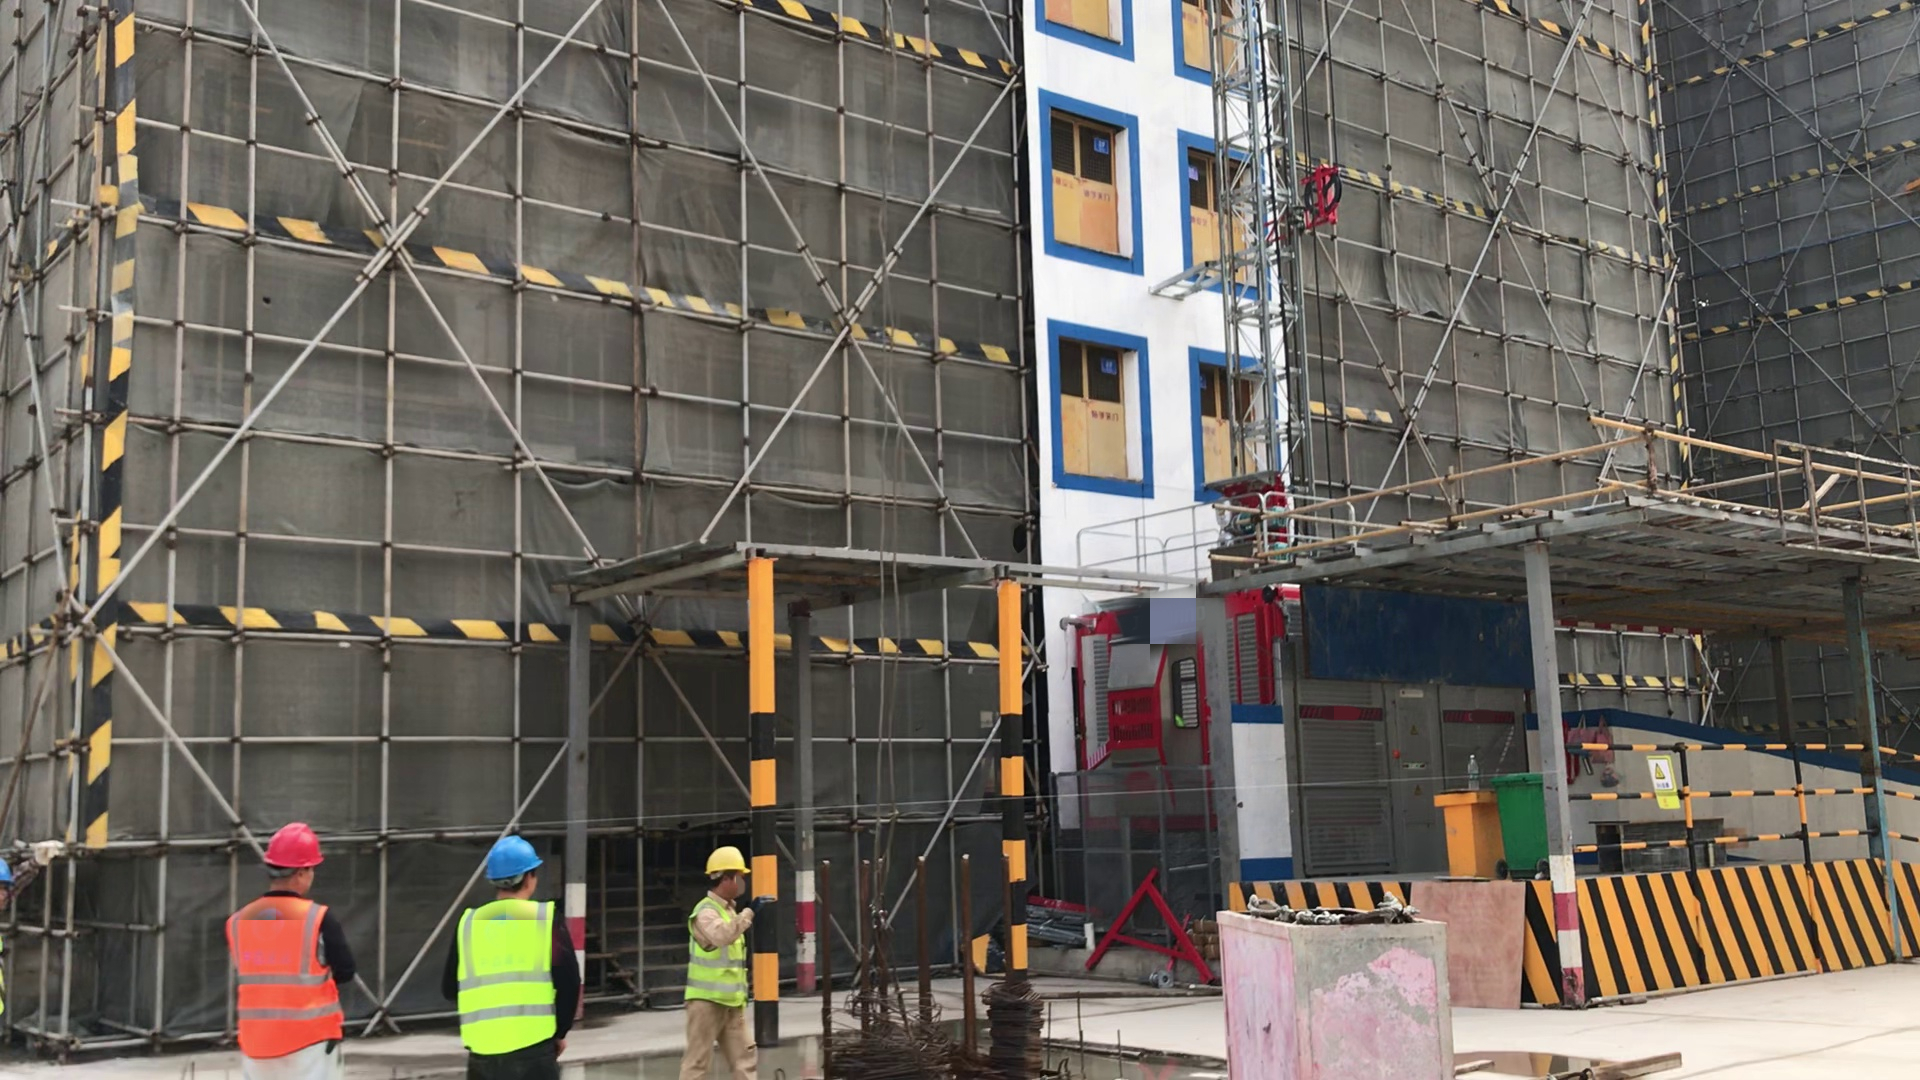fence: (1560, 688, 1920, 896)
helmet: (263, 821, 328, 872), (479, 833, 546, 879), (708, 845, 753, 878)
person: (224, 820, 359, 1080), (447, 833, 588, 1080), (678, 842, 760, 1080)
slogan: (1641, 758, 1682, 813)
vest: (226, 894, 347, 1056), (460, 898, 560, 1054), (690, 895, 750, 1013)
